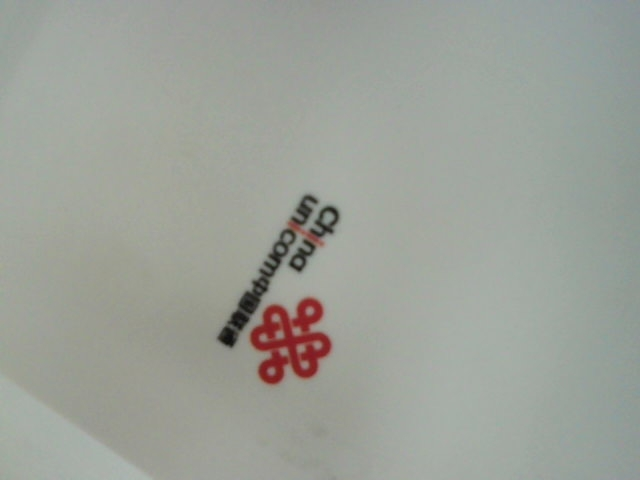AC_ChinaUnicom: (214, 176, 345, 391)
